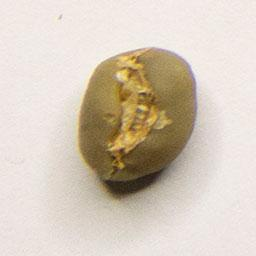peaberry: (75, 41, 201, 186)
